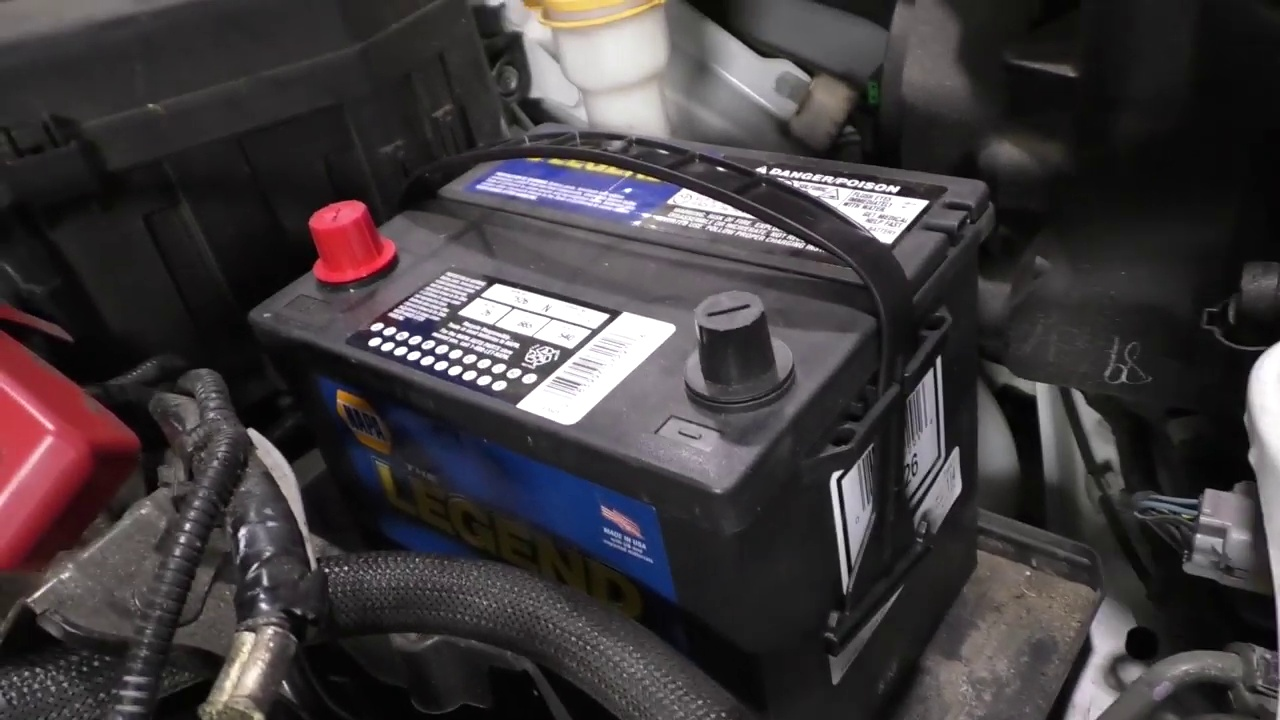battery: (234, 138, 999, 456)
pos_disconnected: (222, 159, 479, 324)
